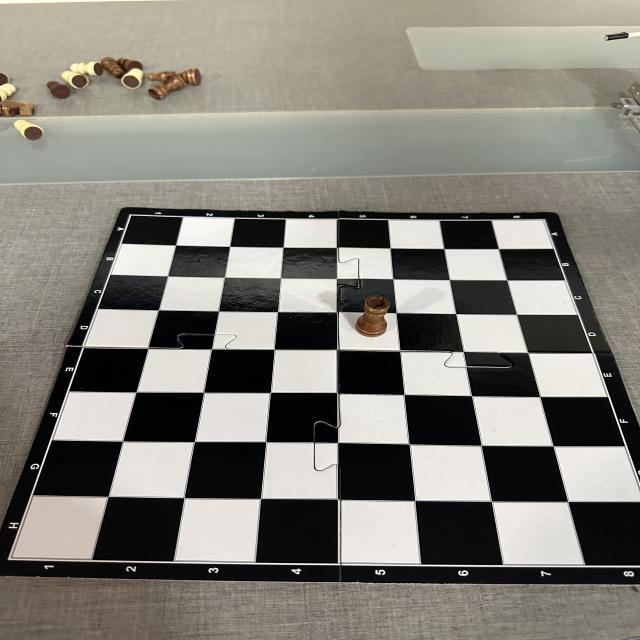Black-Bishop: (148, 68, 207, 84)
Black-Knight: (0, 101, 35, 118)
Black-Rook: (356, 294, 390, 337), (148, 74, 186, 100)
